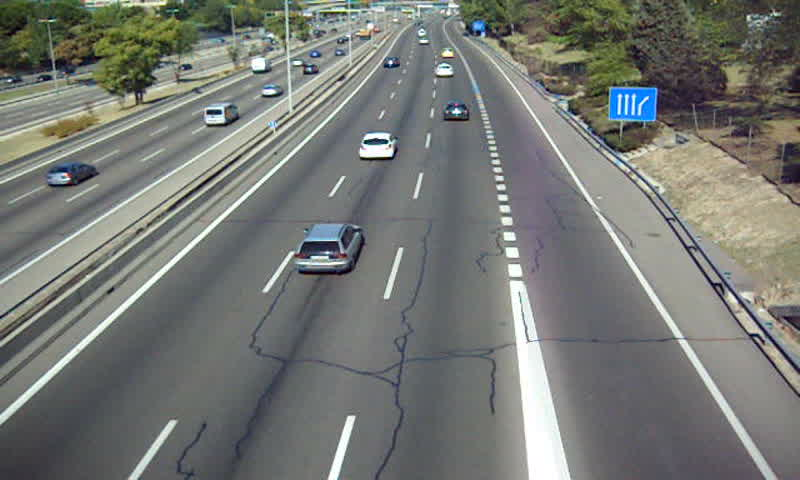car: (294, 224, 362, 273), (358, 131, 398, 160), (443, 100, 470, 122), (435, 64, 455, 79), (380, 57, 399, 69)
